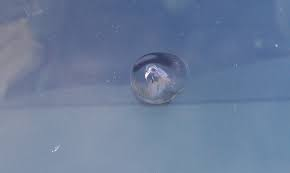bullseye: (122, 46, 194, 115)
